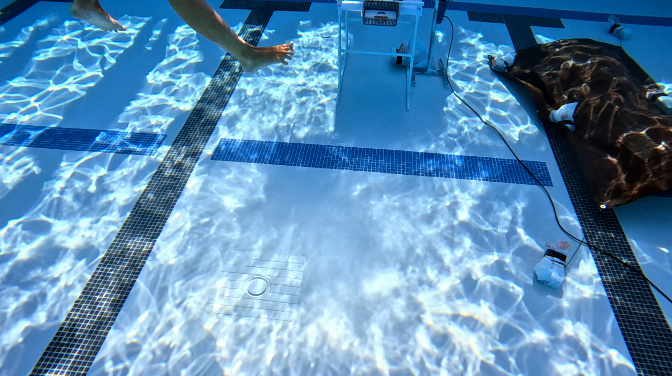sandbag: (489, 27, 671, 210)
